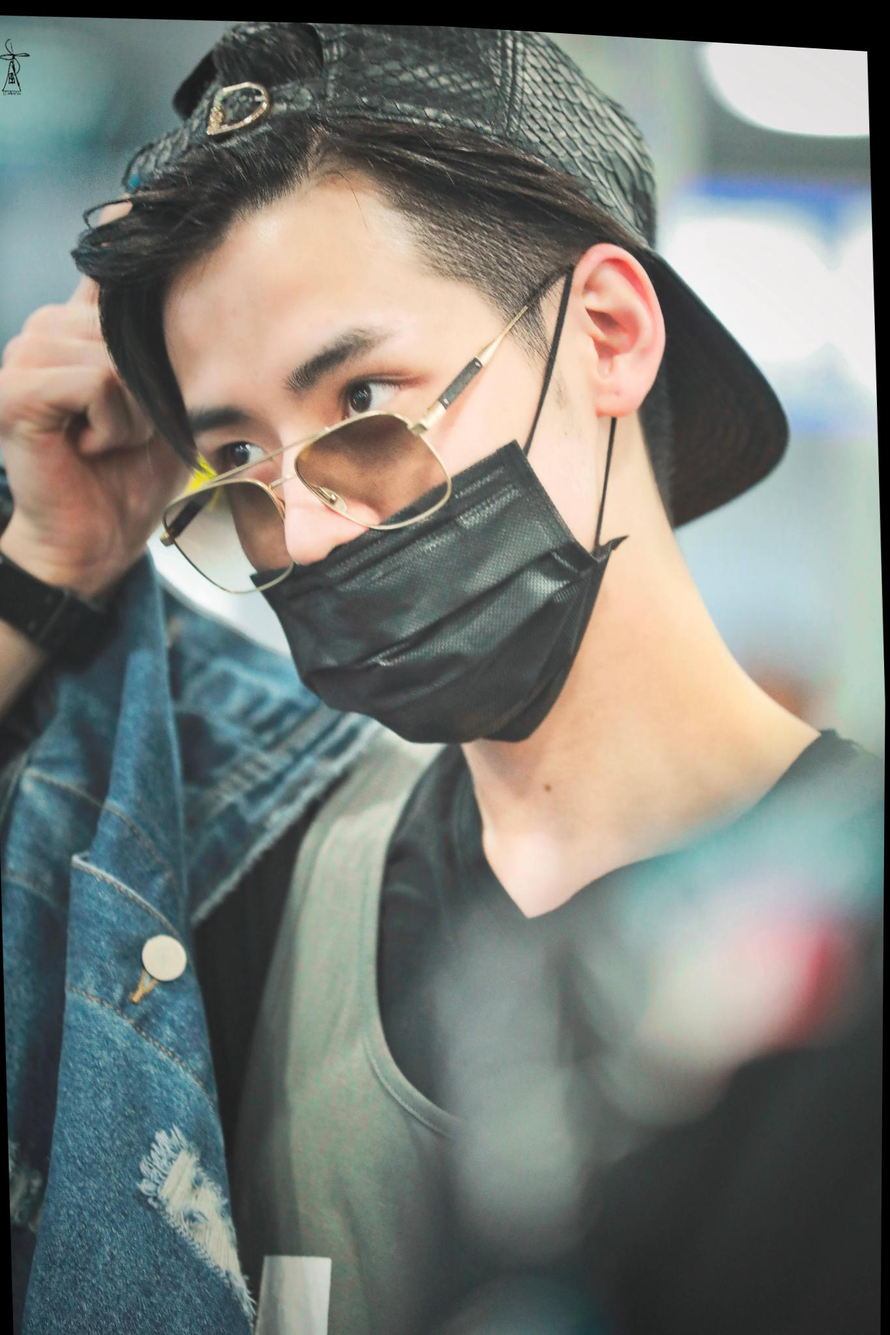WRONG: (187, 250, 584, 757)
